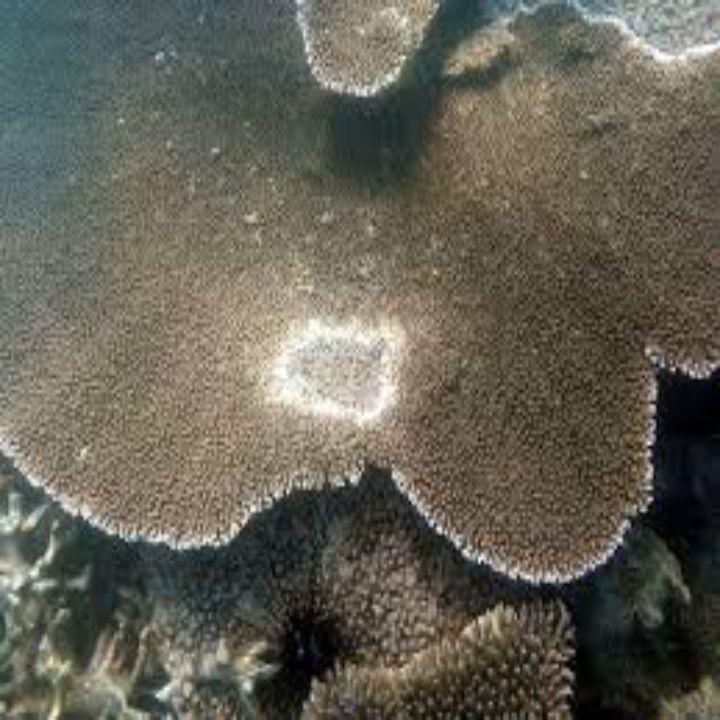White Pox Disease: (222, 295, 454, 449)
